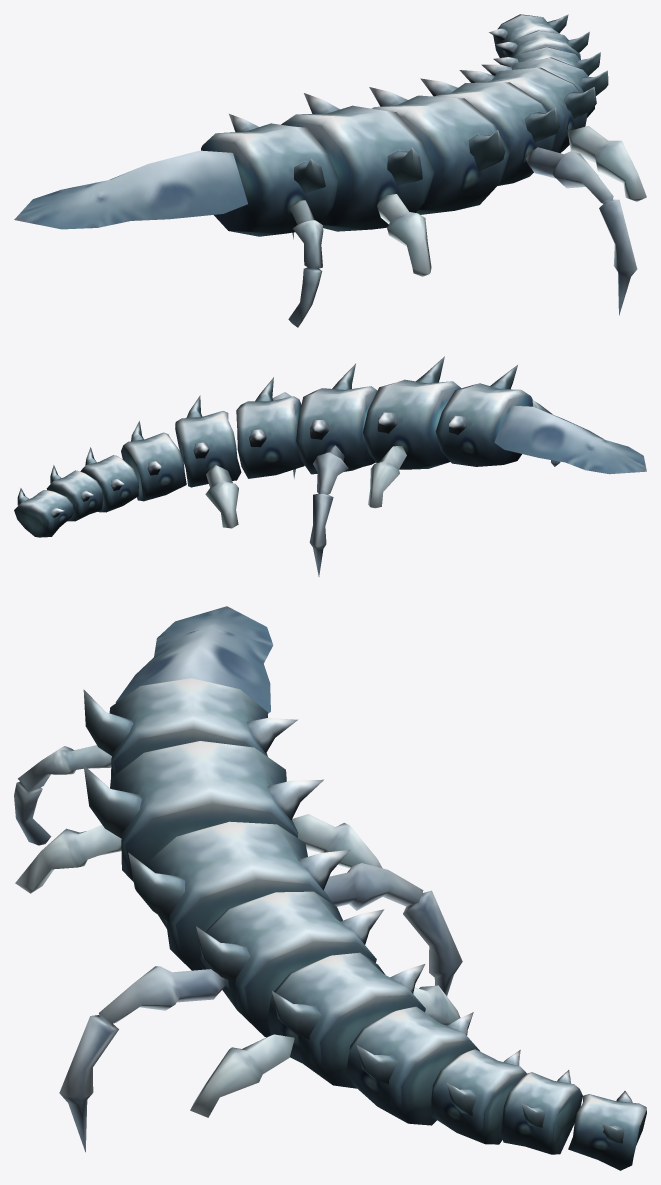
Rendered from LGhuangyuan_longgu01.FBX.
3 views of the same model, one above another, from view 1: azimuth 30°, elevation 25°; view 2: azimuth 150°, elevation 25°; view 3: azimuth 270°, elevation 25° (orthographic). The views are drawn at different scales.
Visible parts, largest first — view 1: LGhuangyuan_longgu01; view 2: LGhuangyuan_longgu01; view 3: LGhuangyuan_longgu01.
Boxes of the visible parts, left/top/right/bottom form: LGhuangyuan_longgu01: left=14, top=14, right=646, bottom=327; LGhuangyuan_longgu01: left=14, top=356, right=646, bottom=576; LGhuangyuan_longgu01: left=14, top=606, right=646, bottom=1170.
Size of the model in its own units: 272 by 174 by 85.58.
